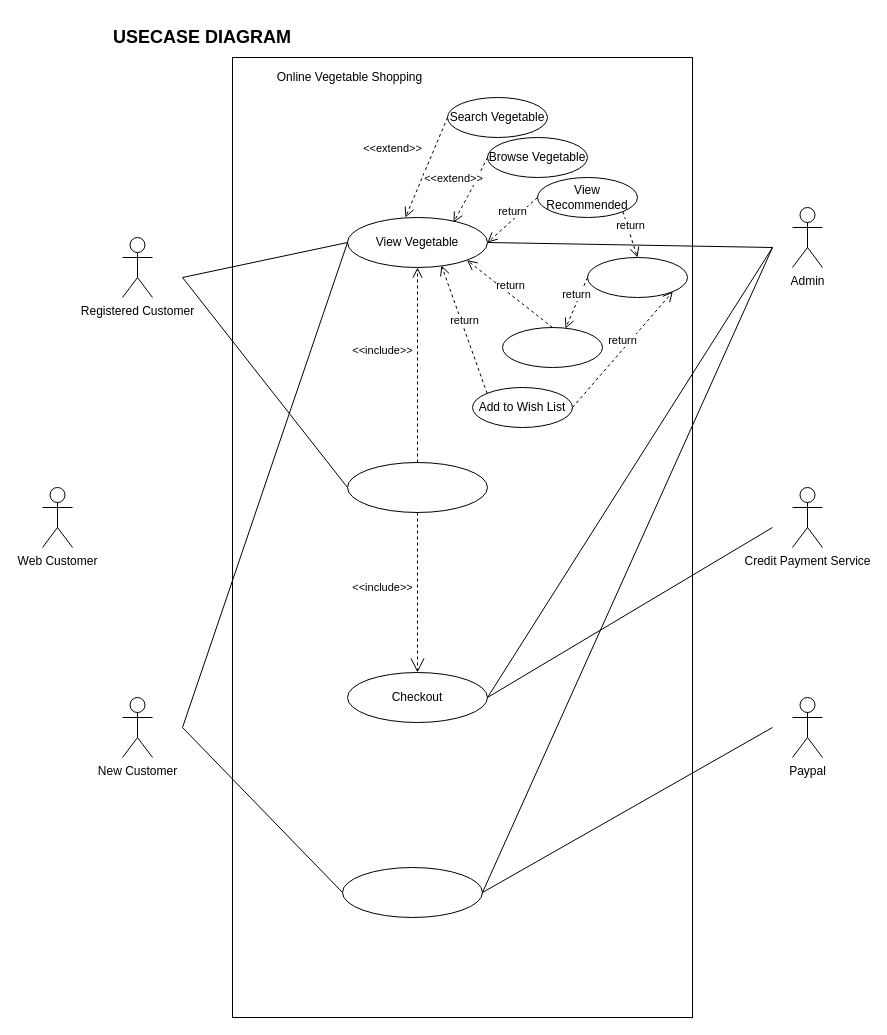
Some shapes in this 887 by 1035 pixel diagram are drawn without their labels. The shapes that lost their labels are listed below. From the top down, each one's centre as x and y in pixels, then its label:
(637,277): Customer Authentication
(552,347): Add to Shopping Cart
(417,487): Make Purchase
(412,892): Client Register
